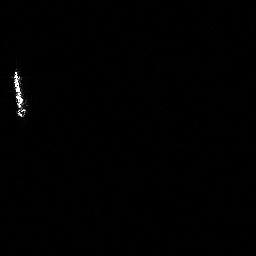ship: (10, 66, 31, 120)
